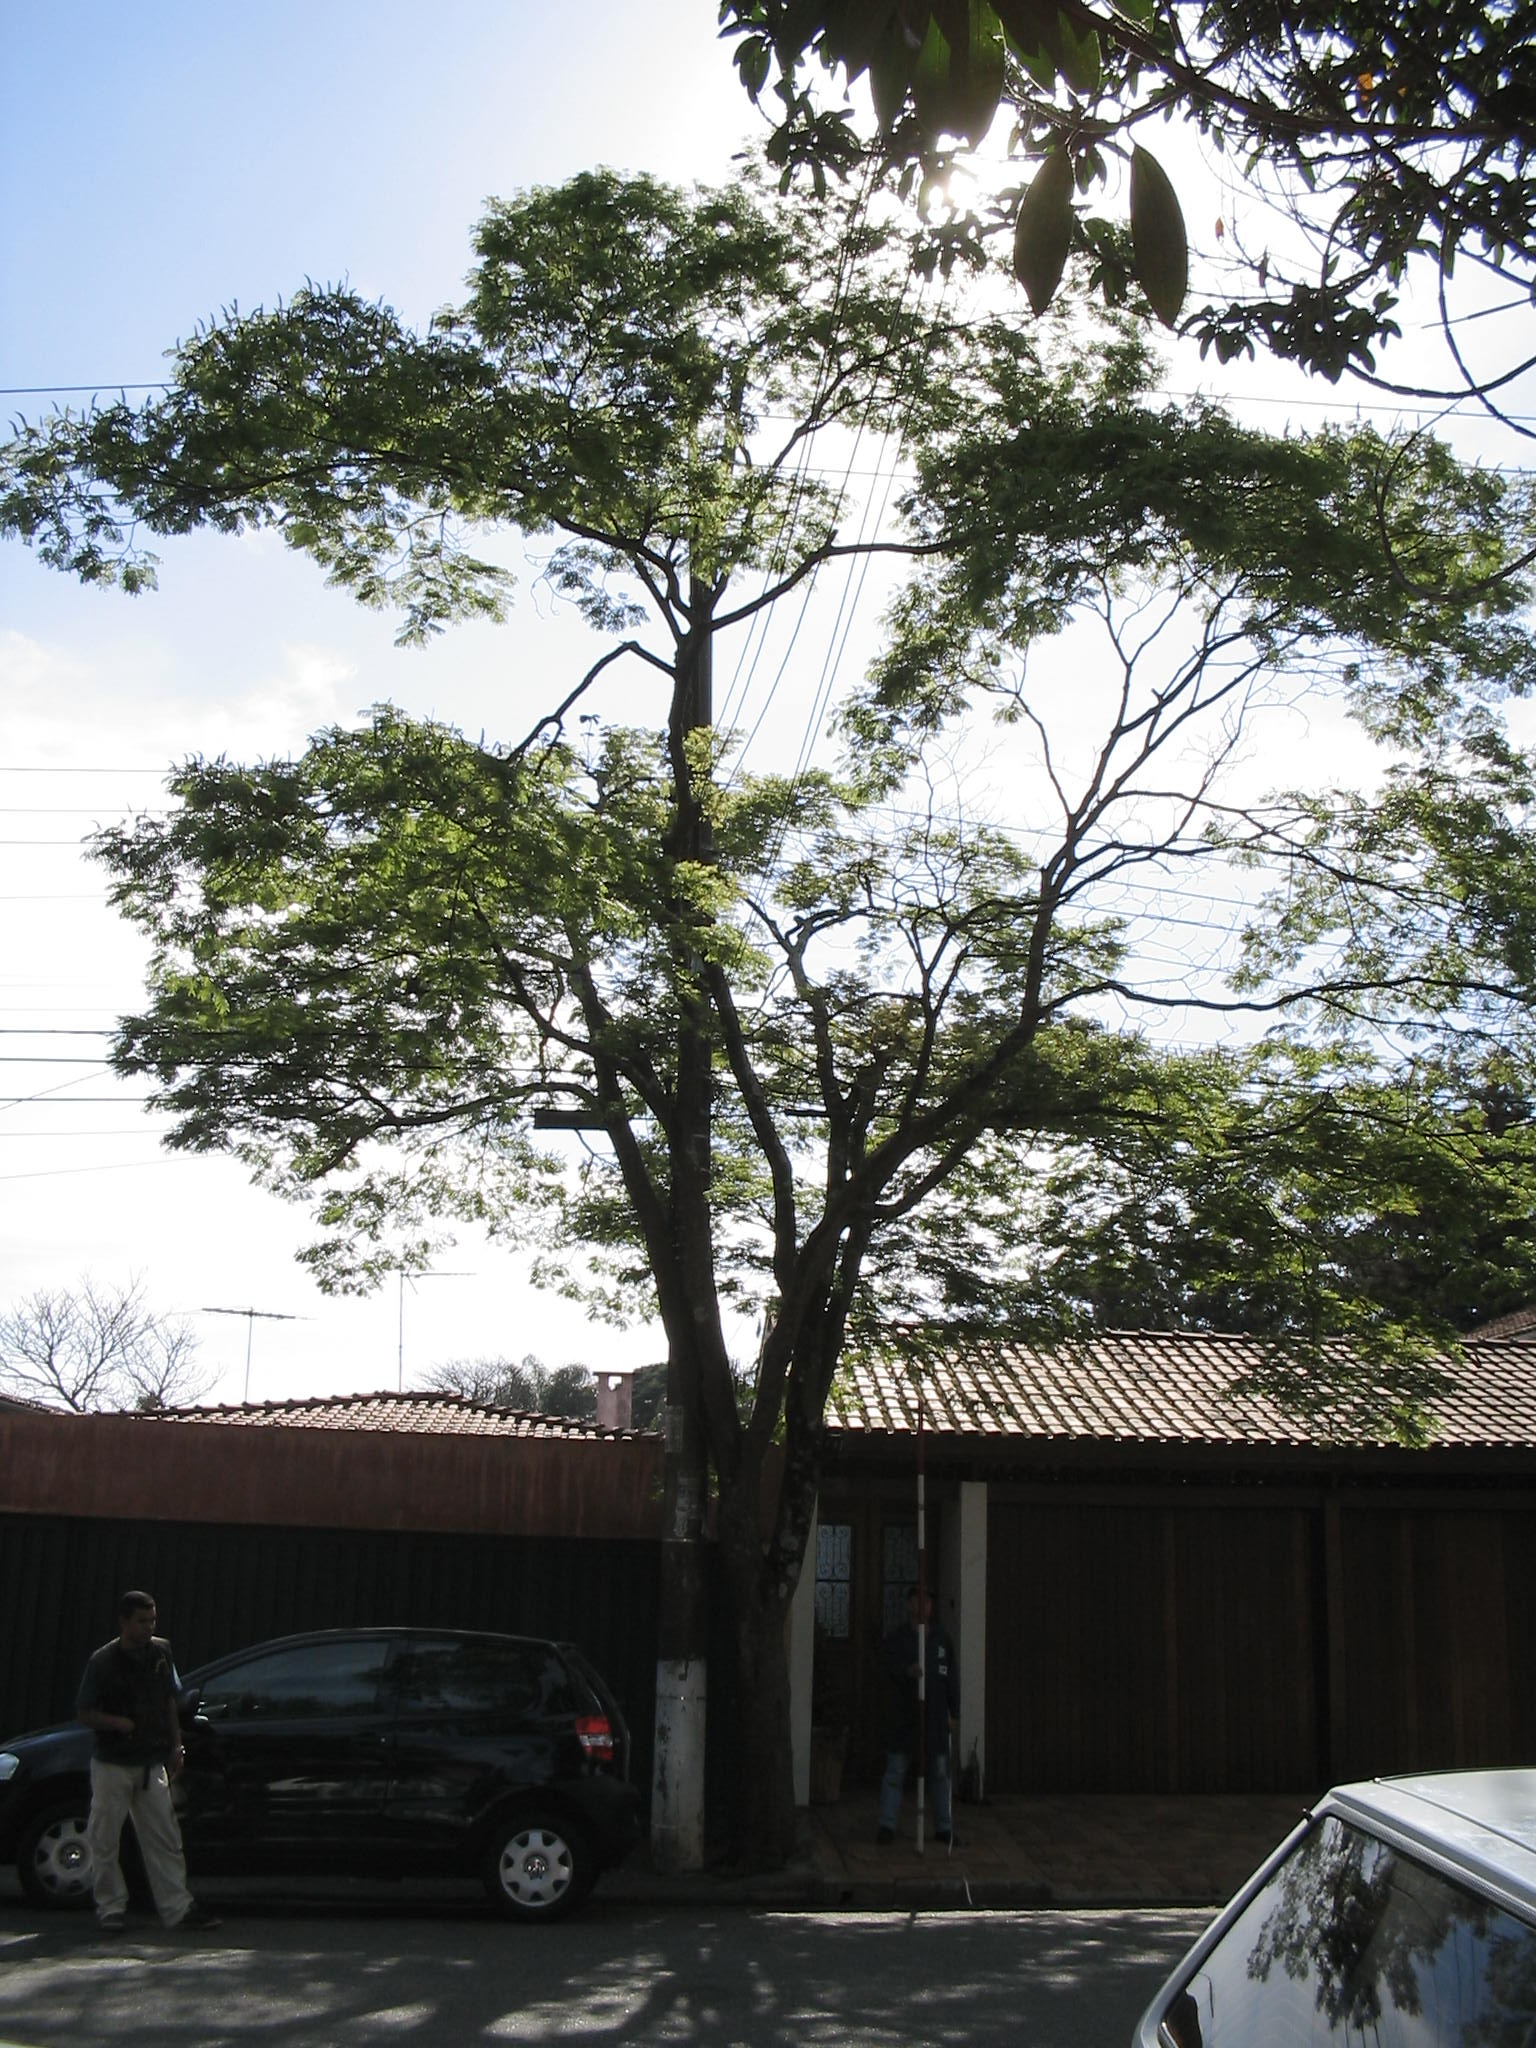crown: (10, 176, 1533, 1467)
stem: (687, 1584, 845, 1879)
stick: (889, 1400, 949, 1856)
tree: (6, 168, 1536, 1880)
